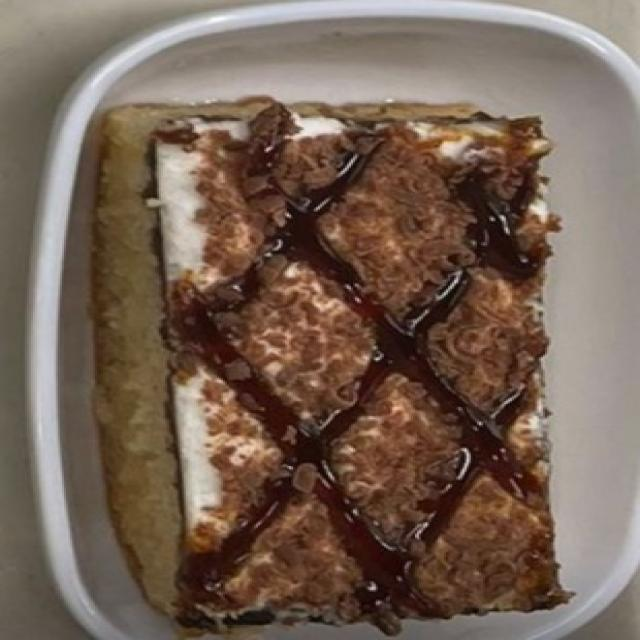yan_yemek: (89, 94, 574, 637)
